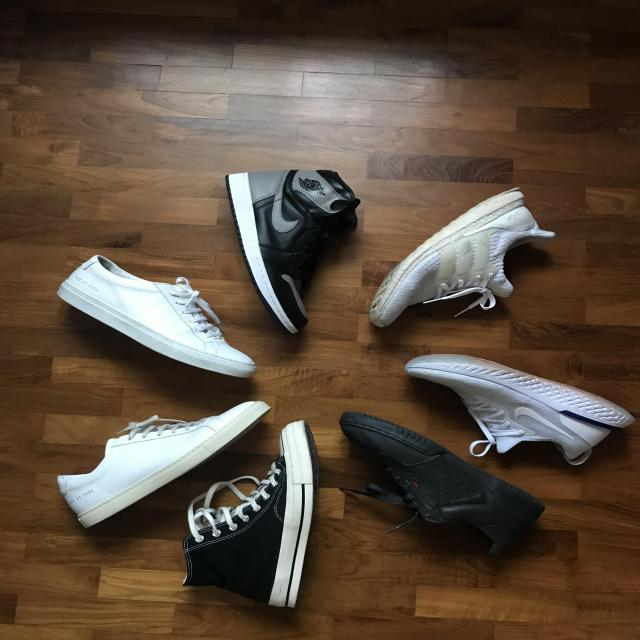shoes: (332, 412, 549, 566), (51, 250, 265, 383), (56, 400, 270, 533), (398, 350, 640, 467), (361, 185, 556, 330), (184, 418, 321, 610), (220, 164, 366, 344)
